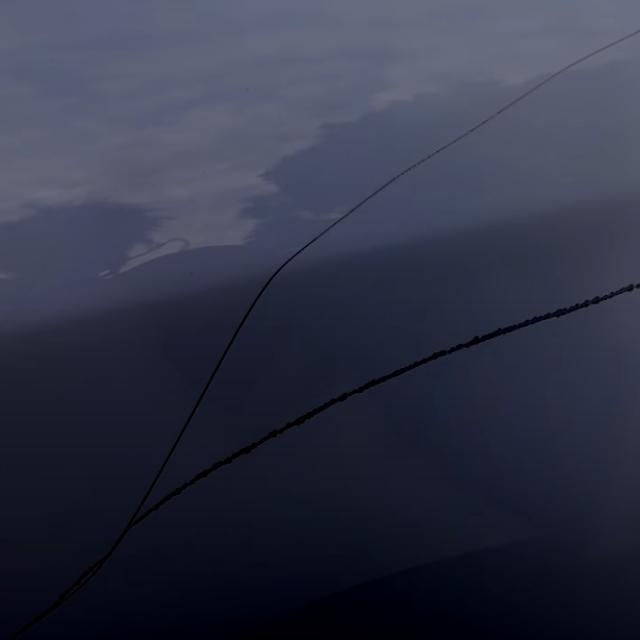crack: (193, 110, 516, 388), (202, 305, 601, 503)
